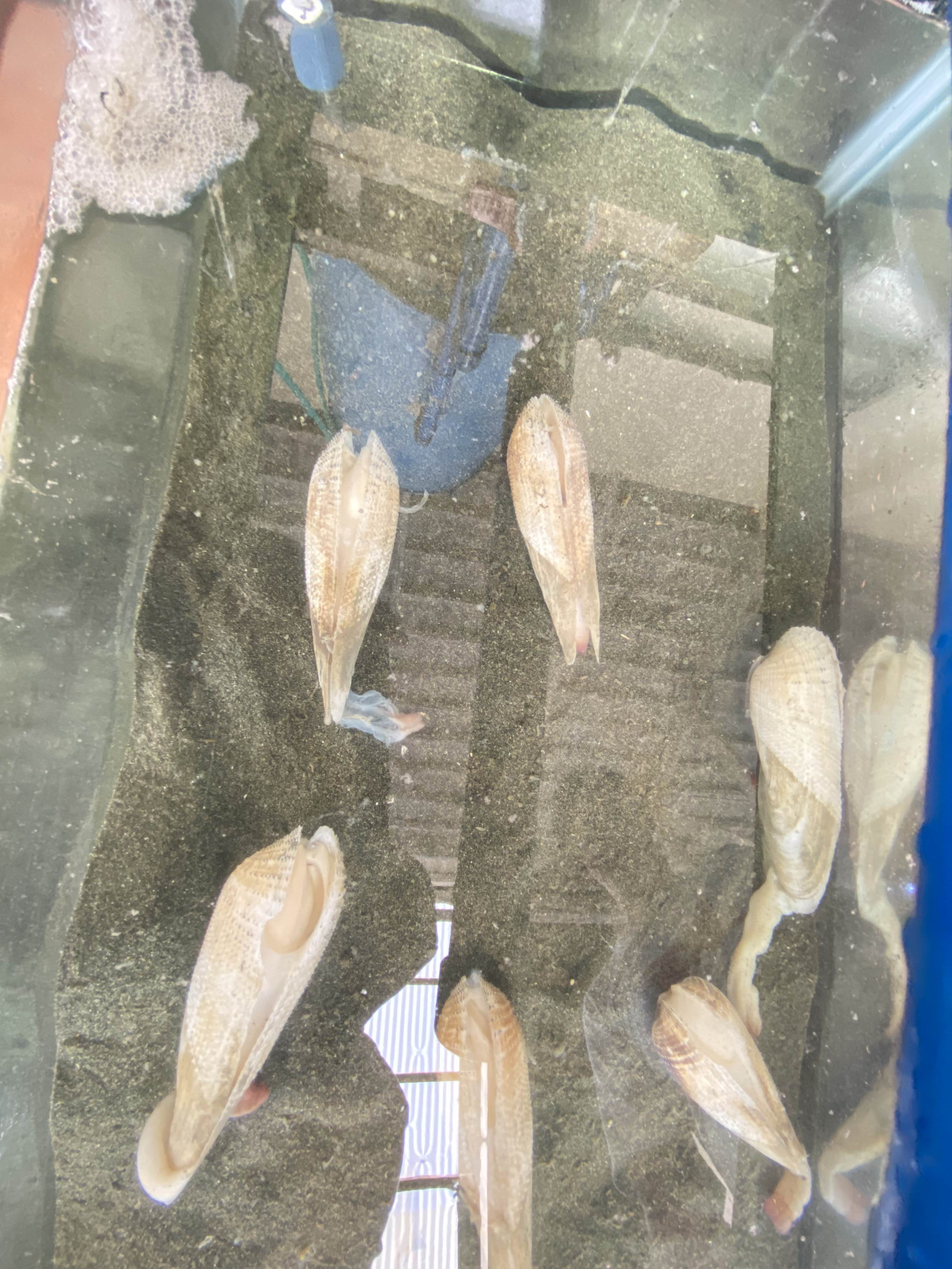At risk: (137, 826, 345, 1203), (727, 629, 842, 1039), (652, 977, 810, 1229), (305, 430, 424, 743), (436, 971, 532, 1269), (507, 395, 599, 665)
